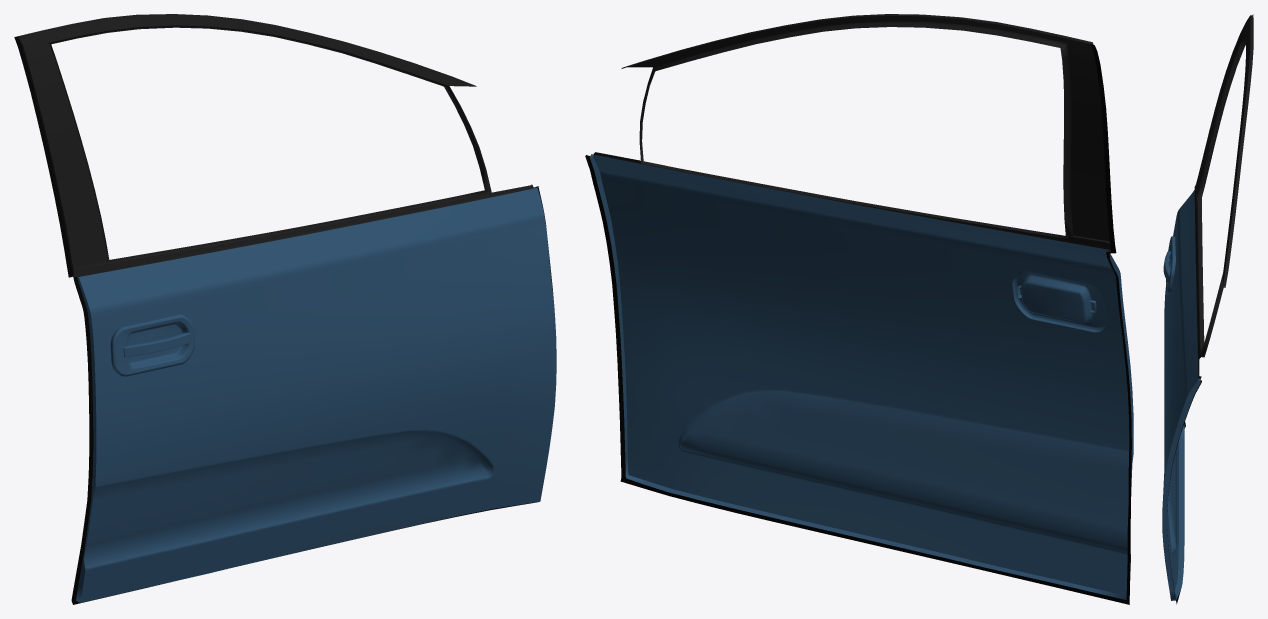
3 renders of one model, left to right at view 1: azimuth 30°, elevation 25°; view 2: azimuth 150°, elevation 25°; view 3: azimuth 270°, elevation 25°, orthographic. The views are drawn at different scales.
Visible parts, largest first — view 1: Y191_13_281B_R_Y191_13_281B_R_1_DaS, Y191_13_281B_R_Y191_13_281B_R_1_DaS_E, Y191_13_281B_R_2_D_Y191_13_281B_R, Y191_13_281B_R_Y191_13_281B_R_3_D, Y191_13_281B_R_Y191_13_281B_R_4_DaS; view 2: Y191_13_281B_R_Y191_13_281B_R_1_DaS, Y191_13_281B_R_Y191_13_281B_R_1_DaS_E, Y191_13_281B_R_2_D_Y191_13_281B_R, Y191_13_281B_R_Y191_13_281B_R_3_D; view 3: Y191_13_281B_R_Y191_13_281B_R_1_DaS, Y191_13_281B_R_2_D_Y191_13_281B_R, Y191_13_281B_R_Y191_13_281B_R_1_DaS_E, Y191_13_281B_R_Y191_13_281B_R_3_D, Y191_13_281B_R_Y191_13_281B_R_4_DaS.
Boxes of the visible parts, box(x1,y1,x2,y2) form: Y191_13_281B_R_Y191_13_281B_R_1_DaS: box(79, 188, 556, 602); Y191_13_281B_R_Y191_13_281B_R_1_DaS_E: box(76, 187, 536, 602); Y191_13_281B_R_2_D_Y191_13_281B_R: box(18, 14, 533, 276); Y191_13_281B_R_Y191_13_281B_R_3_D: box(14, 36, 554, 604); Y191_13_281B_R_Y191_13_281B_R_4_DaS: box(123, 332, 191, 357); Y191_13_281B_R_Y191_13_281B_R_1_DaS: box(593, 155, 1133, 595); Y191_13_281B_R_Y191_13_281B_R_1_DaS_E: box(589, 154, 1133, 599); Y191_13_281B_R_2_D_Y191_13_281B_R: box(593, 14, 1111, 252); Y191_13_281B_R_Y191_13_281B_R_3_D: box(585, 44, 1131, 604); Y191_13_281B_R_Y191_13_281B_R_1_DaS: box(1163, 190, 1198, 589); Y191_13_281B_R_2_D_Y191_13_281B_R: box(1194, 15, 1253, 379); Y191_13_281B_R_Y191_13_281B_R_1_DaS_E: box(1162, 236, 1201, 600); Y191_13_281B_R_Y191_13_281B_R_3_D: box(1167, 14, 1253, 604); Y191_13_281B_R_Y191_13_281B_R_4_DaS: box(1163, 250, 1170, 282).
Size of the model in its own units: 105 by 111 by 22.18.
